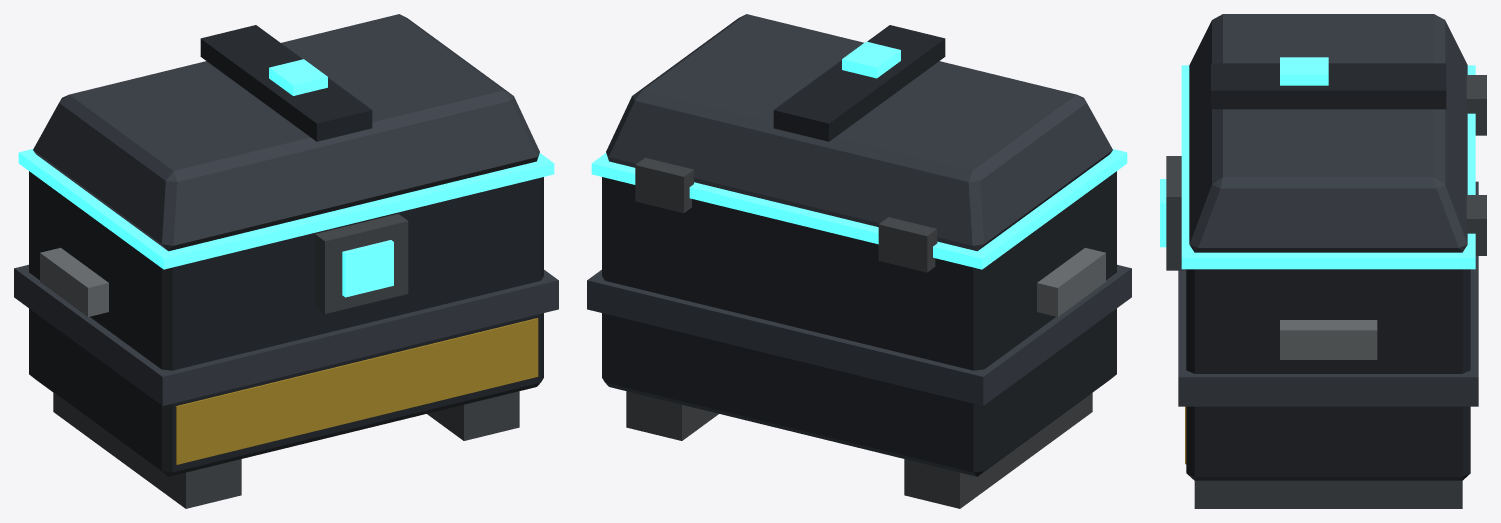
File: device_locker.glb
The picture shows the model from 3 angles, left to right: view 1: azimuth 30°, elevation 25°; view 2: azimuth 150°, elevation 25°; view 3: azimuth 270°, elevation 25°; orthographic projection.
Visible parts, largest first — view 1: device_locker_mesh; view 2: device_locker_mesh; view 3: device_locker_mesh.
Part boxes in pixels (x1,y1,x2,y2): device_locker_mesh: (14,14,558,508); device_locker_mesh: (587,14,1131,508); device_locker_mesh: (1160,14,1486,508).
Size of the model in its own units: 1.28 by 0.98 by 0.805.
